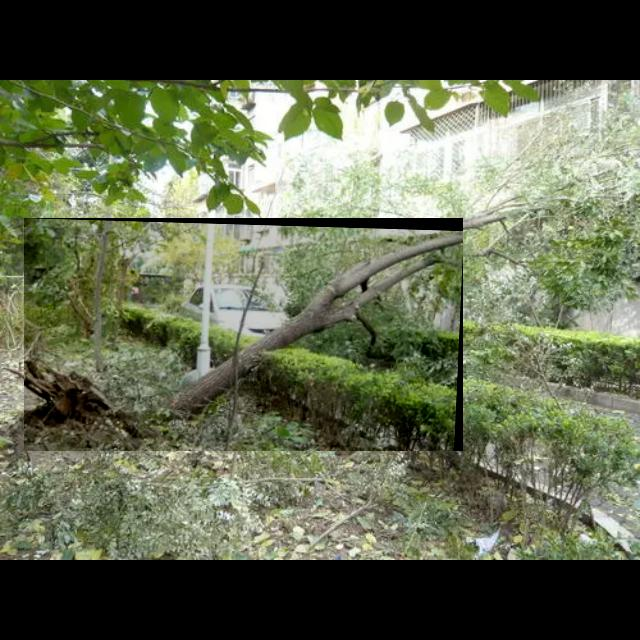Fallen Tree: (24, 218, 464, 452)
